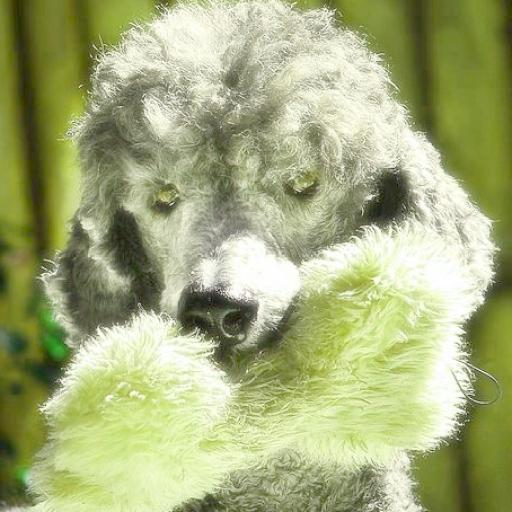dog_face: (64, 26, 434, 336)
